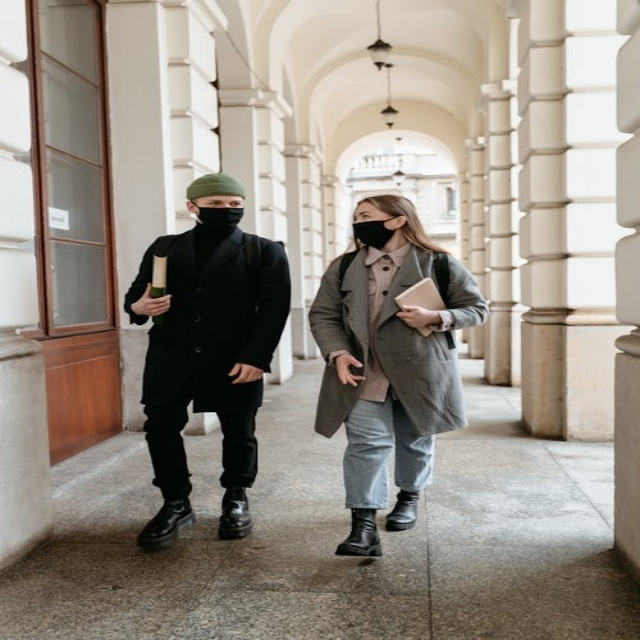Mascara: (353, 220, 400, 249), (194, 206, 244, 229)
Sin_gafas: (358, 213, 371, 219), (208, 201, 222, 205), (231, 202, 241, 207)
Sin_guantes: (324, 348, 375, 390), (127, 282, 178, 324), (223, 359, 271, 392), (396, 305, 445, 331)
